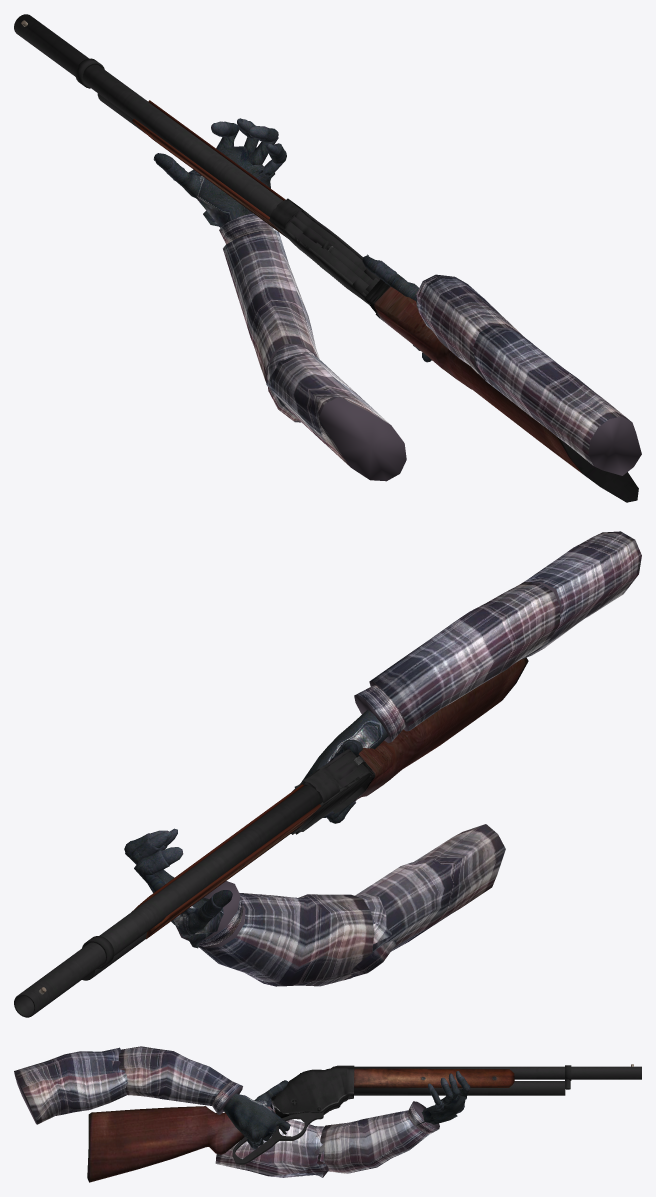
3 renders of one model, top to bottom at view 1: azimuth 30°, elevation 25°; view 2: azimuth 150°, elevation 25°; view 3: azimuth 270°, elevation 25°, orthographic. The views are drawn at different scales.
Visible parts, largest first — view 1: larm, rupperarm, 1887_barrel, 1887_stock, lhand, rforearm, 1887_body, 1887_back, 1887_grip; view 2: larm, rforearm, 1887_barrel, rupperarm, 1887_stock, lhand, 1887_grip, 1887_body, rhand, 1887_back; view 3: larm, 1887_stock, rupperarm, rforearm, 1887_body, 1887_grip, 1887_barrel, 1887_magazine, rhand, lhand, 1887_lever.
Boxes of the visible parts, x1=… form: larm: x1=219, y1=213, x2=406, y2=481; rupperarm: x1=473, y1=325, x2=641, y2=475; 1887_barrel: x1=14, y1=14, x2=282, y2=217; 1887_stock: x1=364, y1=279, x2=638, y2=502; lhand: x1=153, y1=118, x2=286, y2=227; rforearm: x1=416, y1=274, x2=524, y2=380; 1887_body: x1=269, y1=198, x2=380, y2=305; 1887_back: x1=284, y1=210, x2=366, y2=283; 1887_grip: x1=132, y1=100, x2=286, y2=237; larm: x1=176, y1=824, x2=505, y2=986; rforearm: x1=354, y1=582, x2=560, y2=743; 1887_barrel: x1=14, y1=786, x2=320, y2=1017; rupperarm: x1=521, y1=531, x2=641, y2=659; 1887_stock: x1=333, y1=657, x2=528, y2=813; lhand: x1=124, y1=828, x2=232, y2=948; 1887_grip: x1=132, y1=784, x2=320, y2=939; 1887_body: x1=291, y1=749, x2=371, y2=834; rhand: x1=302, y1=710, x2=388, y2=781; 1887_back: x1=322, y1=751, x2=368, y2=789; larm: x1=215, y1=1101, x2=439, y2=1177; 1887_stock: x1=87, y1=1095, x2=289, y2=1182; rupperarm: x1=14, y1=1047, x2=127, y2=1124; rforearm: x1=118, y1=1046, x2=242, y2=1114; 1887_body: x1=274, y1=1065, x2=354, y2=1115; 1887_grip: x1=354, y1=1068, x2=514, y2=1088; 1887_barrel: x1=354, y1=1066, x2=641, y2=1079; 1887_magazine: x1=354, y1=1081, x2=565, y2=1095; rhand: x1=222, y1=1093, x2=276, y2=1142; lhand: x1=416, y1=1071, x2=470, y2=1125; 1887_lever: x1=232, y1=1112, x2=323, y2=1164.
Bounding box in the file's own units: 10.68 × 12.67 × 55.61.
3 materials, 3 textured.
